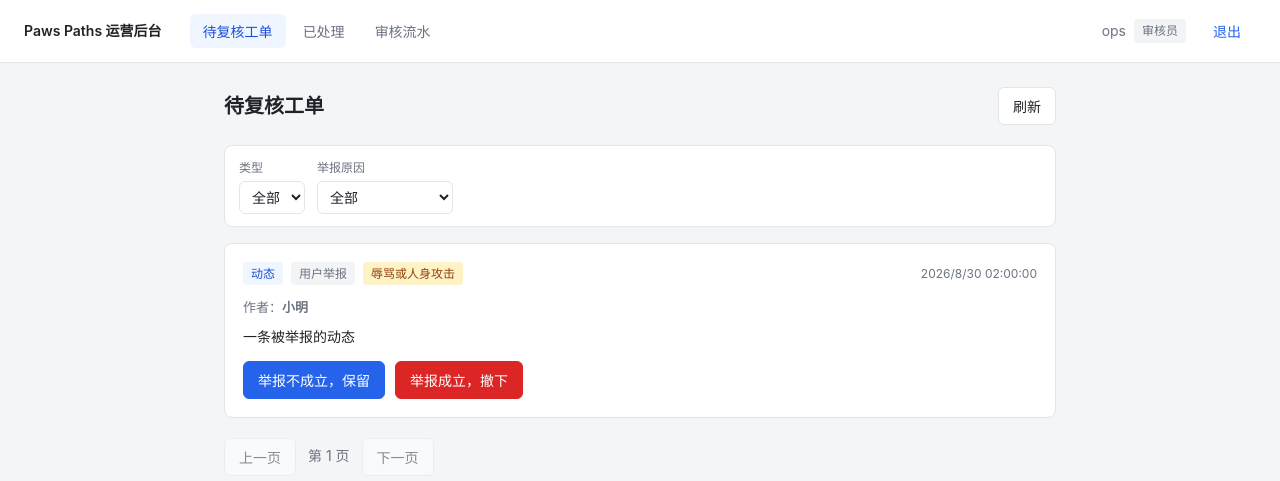
Scenario: 外壳与视图切换 › 点「审核流水」切到流水页
The image size is (1280, 481).
Expected: the heading "待复核工单" is shown, [224, 90, 324, 122]
Click the button "审核流水": (403, 31) [362, 14, 444, 48]
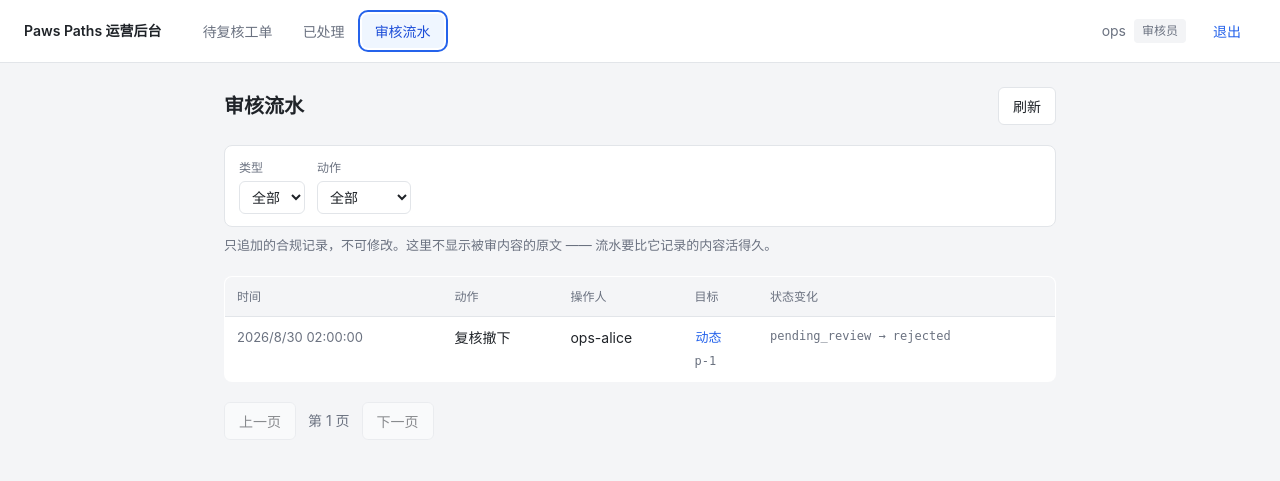
Result: the heading "审核流水" is shown at [224, 90, 304, 122]
